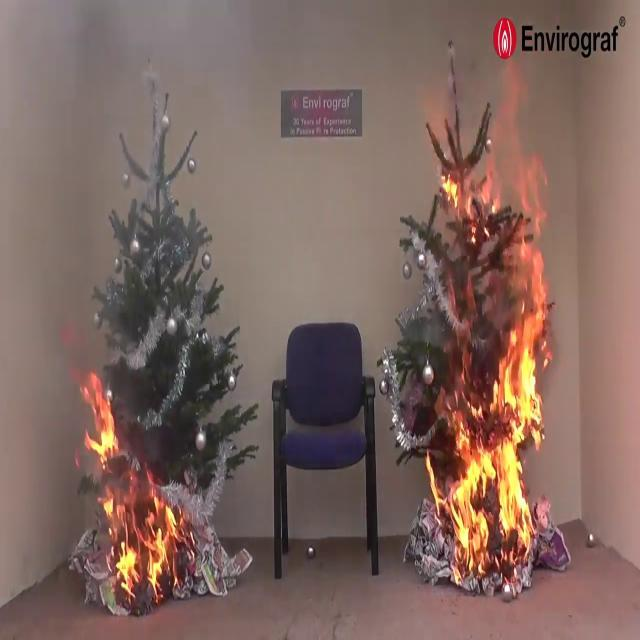Fire: (71, 363, 182, 598), (428, 362, 544, 576)
